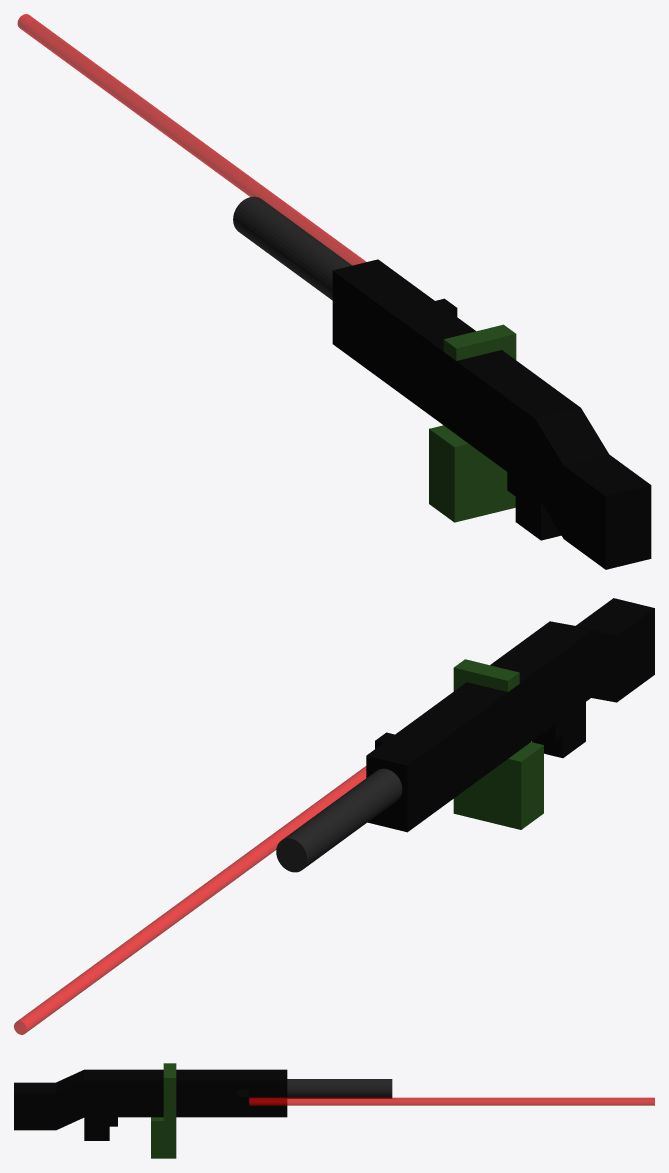
The model's file is LMG.fbx.
3 views of the same model, one above another, from view 1: azimuth 30°, elevation 25°; view 2: azimuth 150°, elevation 25°; view 3: azimuth 270°, elevation 25° (orthographic). The views are drawn at different scales.
Visible parts, largest first — view 1: Cube, Cube.001, Cube.003, Cube.002; view 2: Cube, Cube.001, Cube.003, Cube.002; view 3: Cube, Cube.003, Cube.002, Cube.001.
Boxes of the visible parts, box(x1,y1,x2,y2) form: Cube: box(332, 259, 651, 569); Cube.001: box(429, 324, 516, 522); Cube.003: box(17, 14, 366, 265); Cube.002: box(233, 196, 351, 300); Cube: box(366, 598, 654, 832); Cube.001: box(453, 659, 543, 829); Cube.003: box(14, 766, 366, 1034); Cube.002: box(276, 768, 402, 872); Cube: box(14, 1069, 287, 1140); Cube.003: box(249, 1097, 654, 1105); Cube.002: box(287, 1079, 392, 1098); Cube.001: box(151, 1063, 176, 1158).
Size of the model in its own units: 50.37 by 87.76 by 632.
